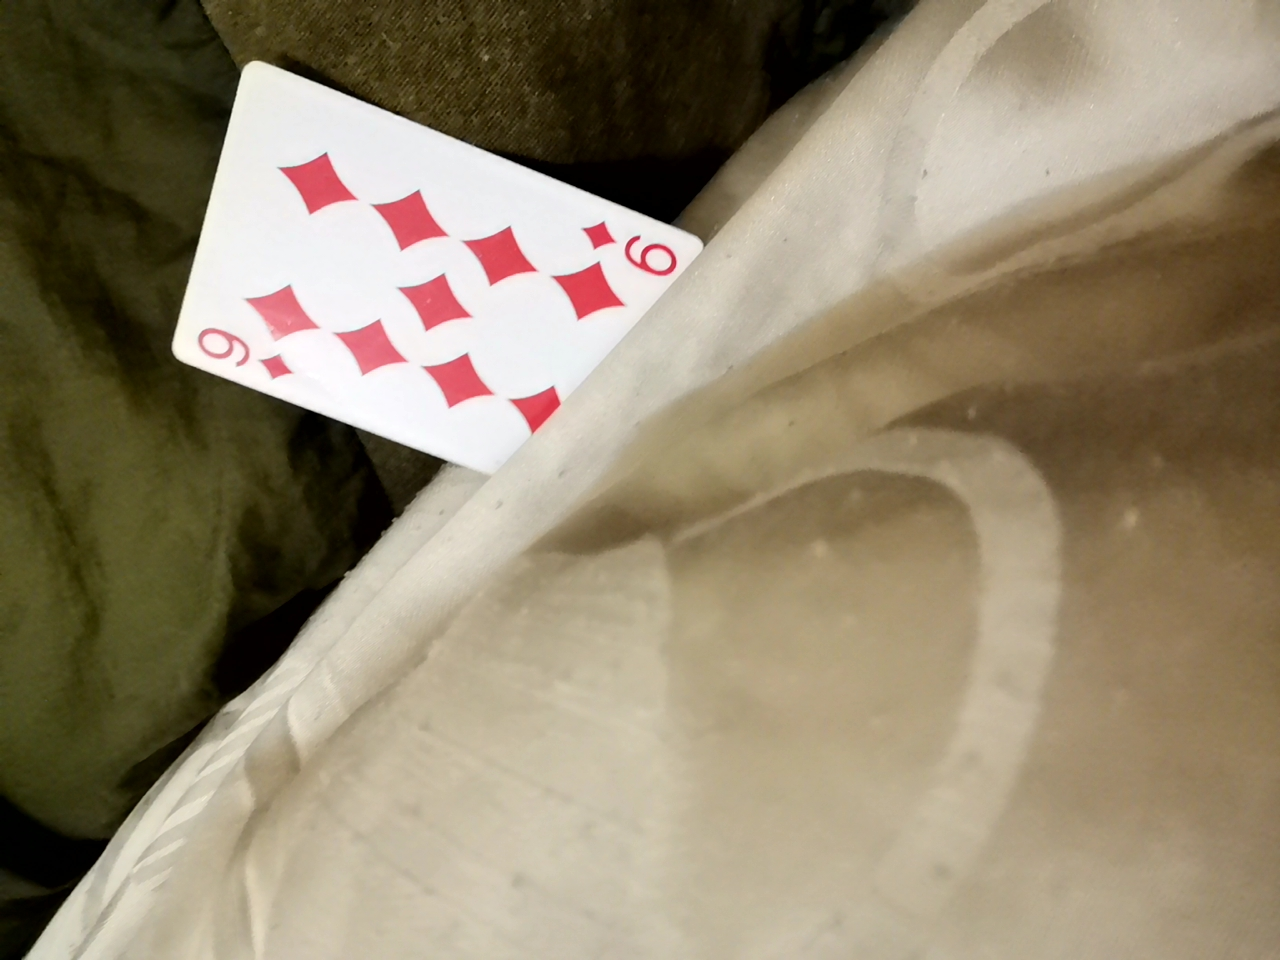fk 9: (128, 66, 701, 506)
